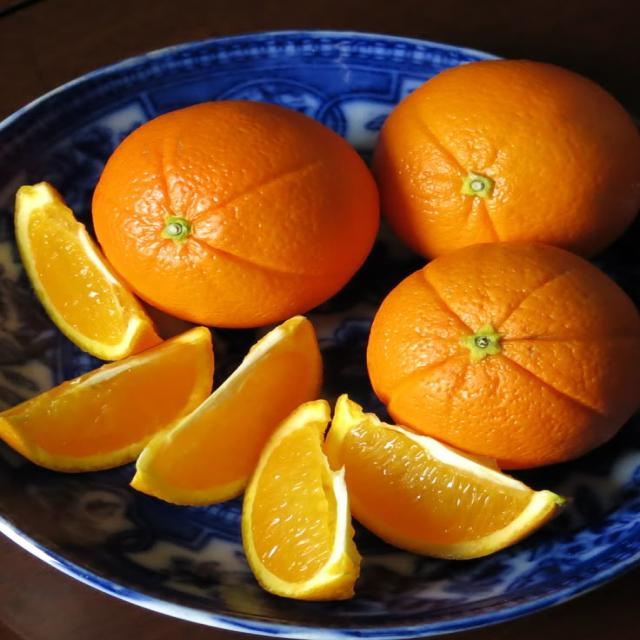orange: (93, 101, 379, 326), (367, 243, 639, 468), (374, 60, 639, 258), (326, 396, 566, 559), (132, 316, 322, 505), (0, 327, 213, 471), (15, 183, 160, 360), (242, 400, 360, 599)
